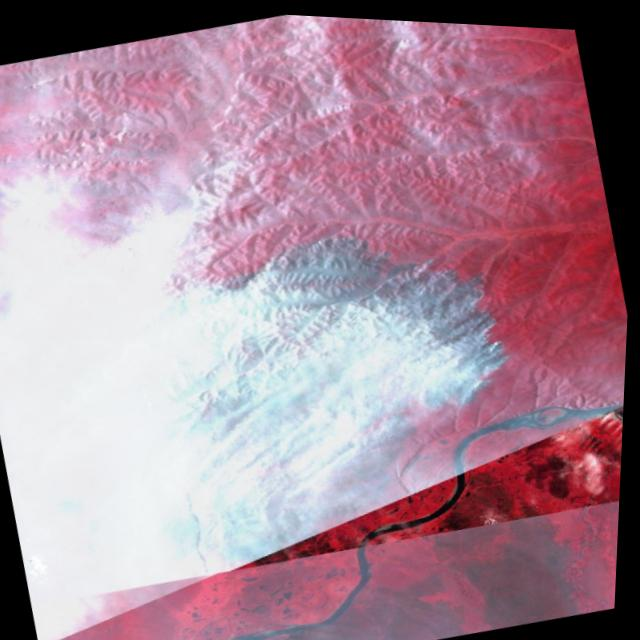fire: (153, 179, 536, 479)
